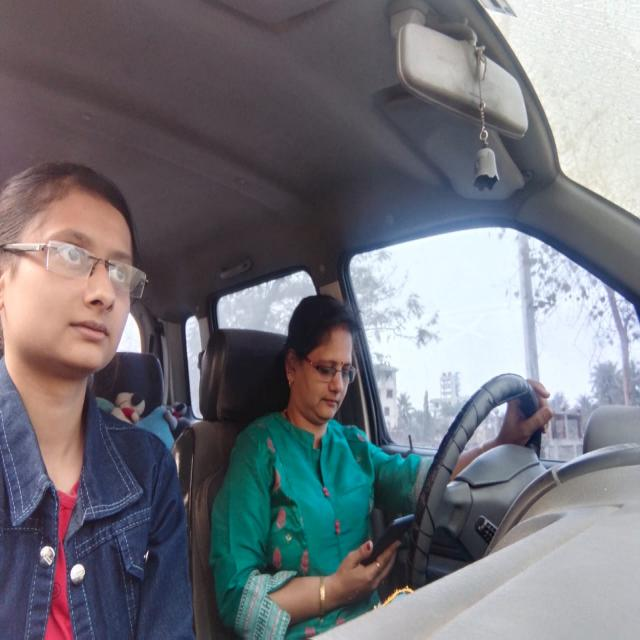mobile: (362, 512, 417, 588)
person: (8, 164, 146, 444), (283, 295, 367, 433)
